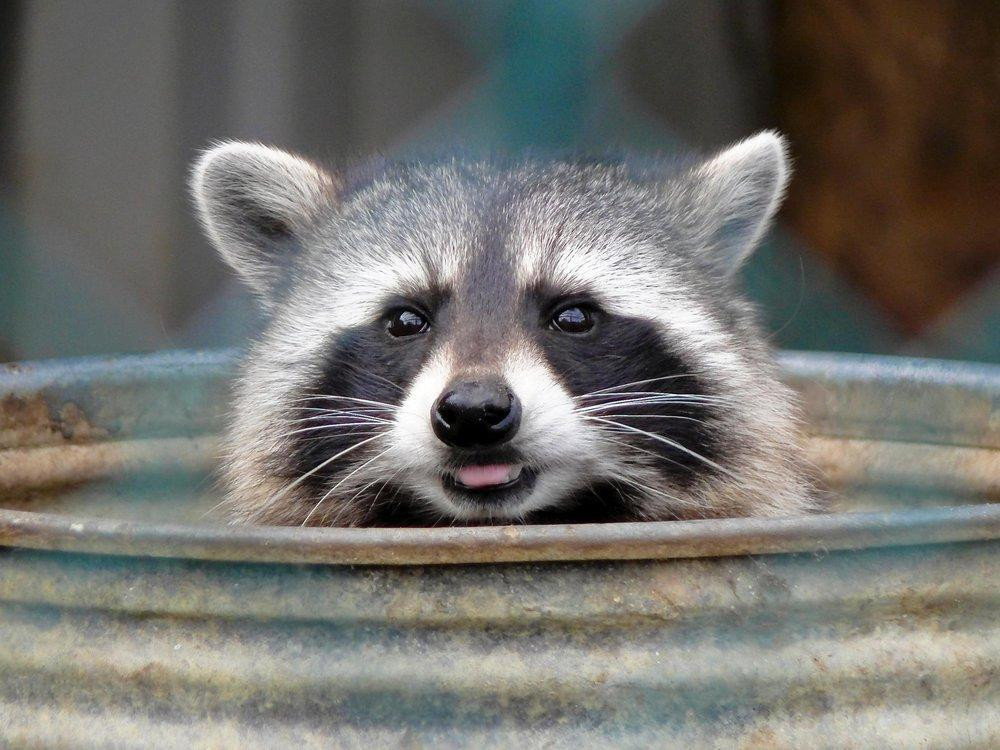raccoon: (190, 130, 811, 528)
